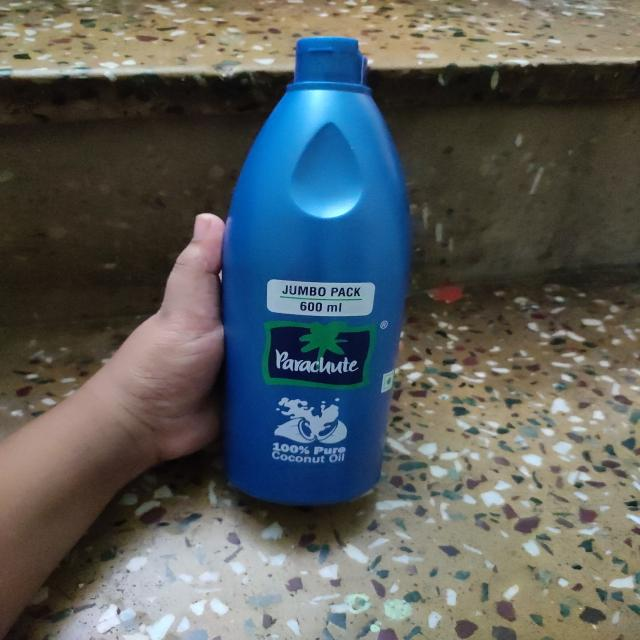parachute_oil: (205, 39, 408, 509)
